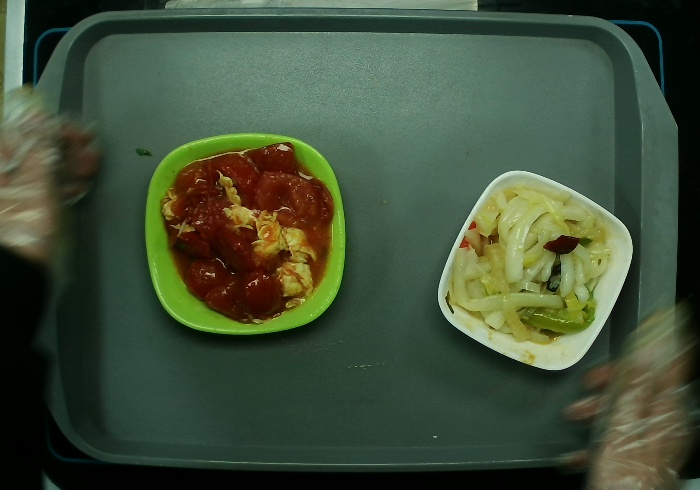SHKJ-Bai_Se_Xiao_Fang_Die: (435, 168, 634, 372)
SHKJ-Lv_Se_Cai_Die: (142, 129, 348, 340)
